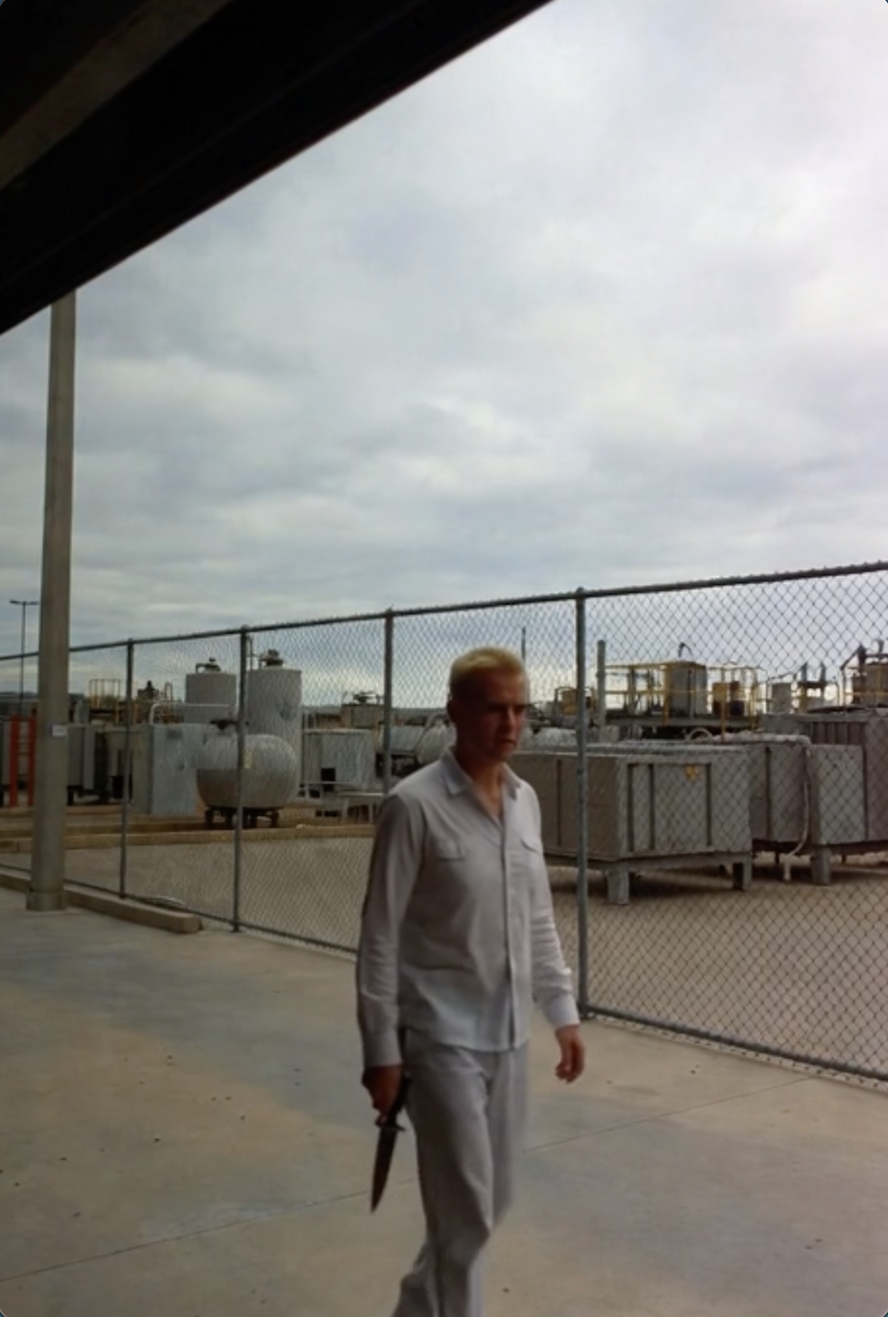Heavy Gun: (353, 643, 603, 1317)
Knife: (358, 1065, 420, 1220)
